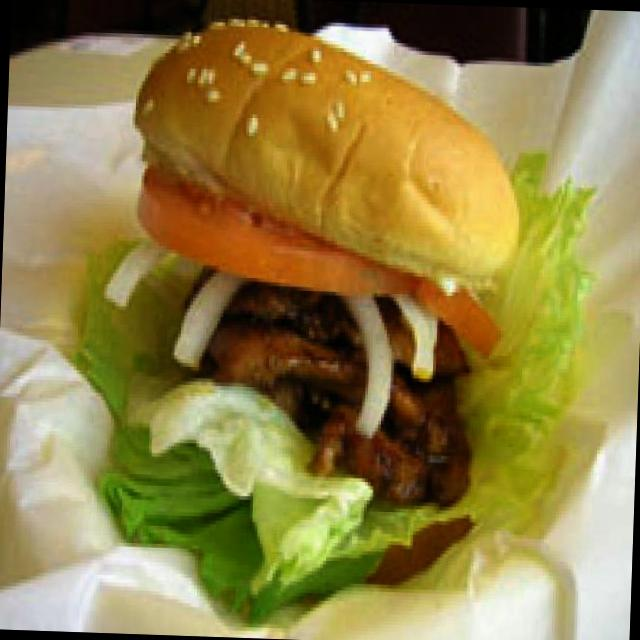Hamburger: (74, 1, 552, 628)
